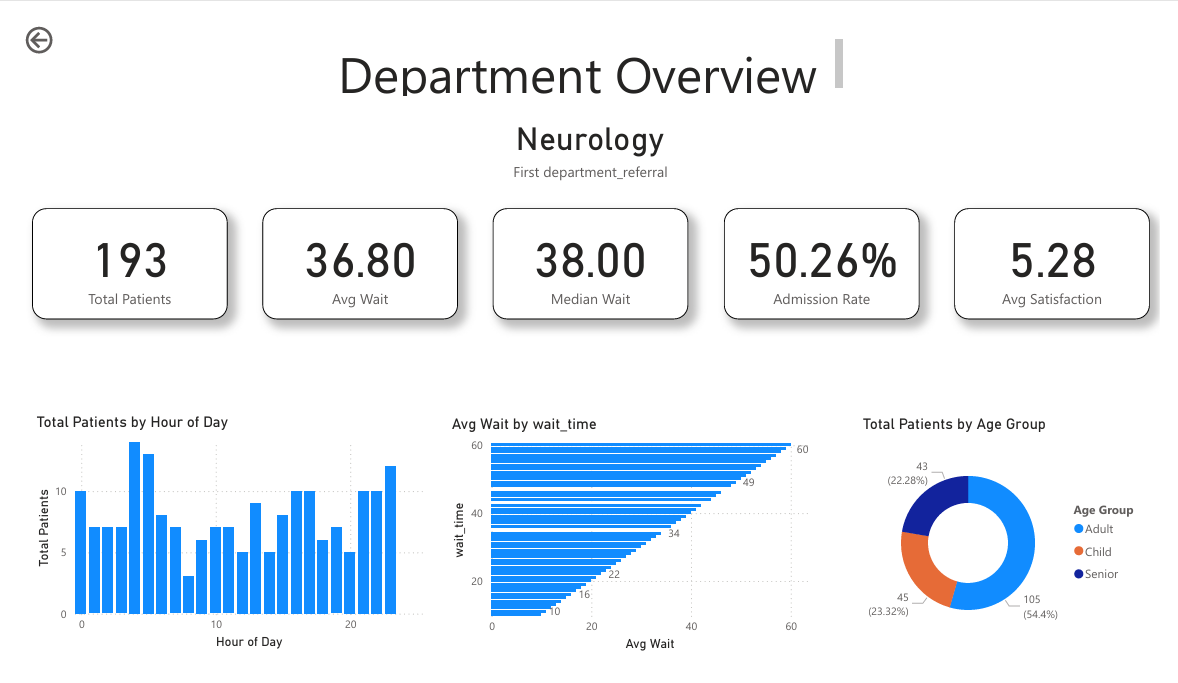

What the dashboard file says about the page in this screenshot:
{"tool":"powerbi","page":{"name":"Department Details","canvas":[1280,720],"ordinal":2},"visuals":[{"type":"actionButton","box":[0,0,100,40],"z":0},{"type":"textbox","box":[351.4,14.3,577.1,72.8],"z":1000},{"type":"card","fields":{"Values":["Min(Hospital ER.department_referral)"]},"box":[497.2,87.2,285.6,103.2],"z":2000},{"type":"card","fields":{"Values":["Hospital ER.Total Patients"]},"box":[11.5,209.4,220,125],"z":3000},{"type":"card","fields":{"Values":["Hospital ER.Avg Wait"]},"box":[270.9,209.4,220,125],"z":4000},{"type":"card","fields":{"Values":["Hospital ER.Median Wait"]},"box":[530.4,209.4,220,125],"z":5000},{"type":"card","fields":{"Values":["Hospital ER.Admission Rate"]},"box":[789.8,209.4,220,125],"z":6000},{"type":"card","fields":{"Values":["Hospital ER.Avg Satisfaction"]},"box":[1049.3,209.4,220,125],"z":7000},{"type":"clusteredColumnChart","fields":{"Category":["Hospital ER.Hour of Day"],"Y":["Hospital ER.Total Patients"]},"box":[11.5,439.5,446.4,270],"z":8000},{"type":"donutChart","fields":{"Category":["Hospital ER.Age Group"],"Y":["Hospital ER.Total Patients"]},"box":[941.1,440.6,333.6,270.4],"z":9000},{"type":"barChart","fields":{"Category":["Hospital ER.wait_time"],"Y":["Hospital ER.Avg Wait"]},"box":[478.6,440.6,418.8,270.4],"z":10000}]}

Visuals, with their boxes in screenshot pixels (x1, y1, x2, y2), scaled from the page's 1280x720 canvas onto the 1178x683 screenshot:
actionButton: crop(0, 0, 92, 38)
textbox: crop(323, 14, 855, 83)
card - Min(Hospital ER.department_referral): crop(458, 83, 720, 181)
card - Hospital ER.Total Patients: crop(11, 199, 213, 317)
card - Hospital ER.Avg Wait: crop(249, 199, 452, 317)
card - Hospital ER.Median Wait: crop(488, 199, 691, 317)
card - Hospital ER.Admission Rate: crop(727, 199, 929, 317)
card - Hospital ER.Avg Satisfaction: crop(966, 199, 1168, 317)
clusteredColumnChart - Hospital ER.Hour of Day x Hospital ER.Total Patients: crop(11, 417, 421, 673)
donutChart - Hospital ER.Age Group x Hospital ER.Total Patients: crop(866, 418, 1173, 674)
barChart - Hospital ER.wait_time x Hospital ER.Avg Wait: crop(440, 418, 826, 674)
